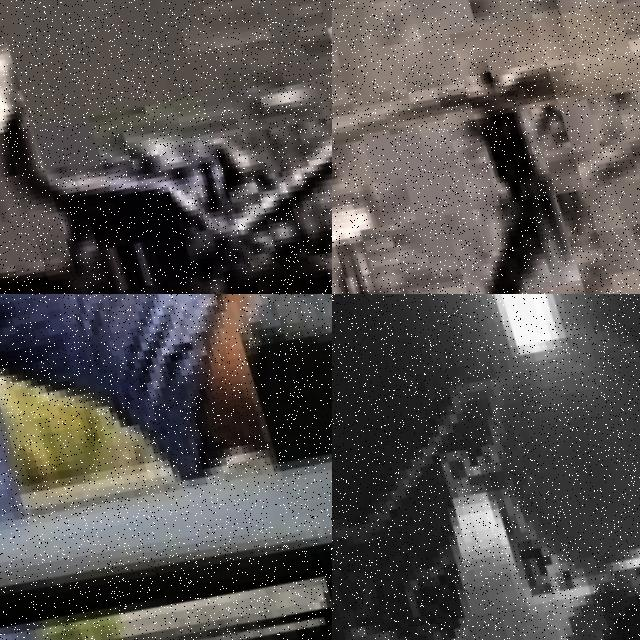0: (0, 0, 332, 294), (332, 0, 640, 294)
drone: (0, 294, 332, 640), (332, 294, 640, 640)
